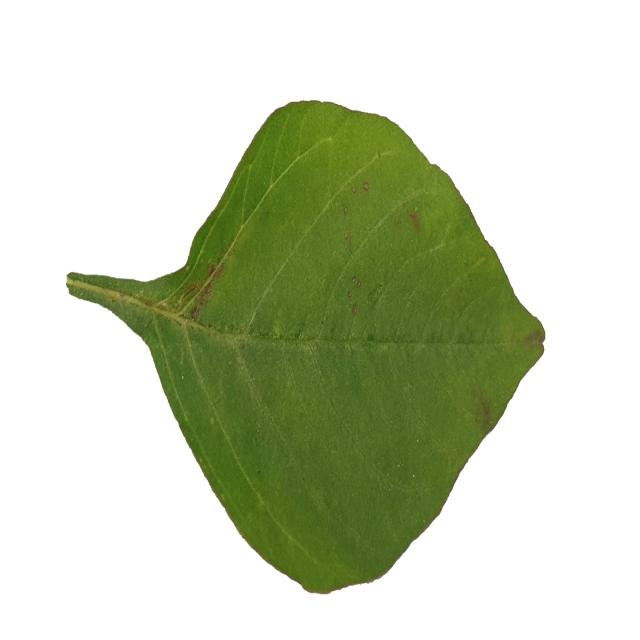Medicinal-Arive Dantu: (64, 100, 545, 595)
